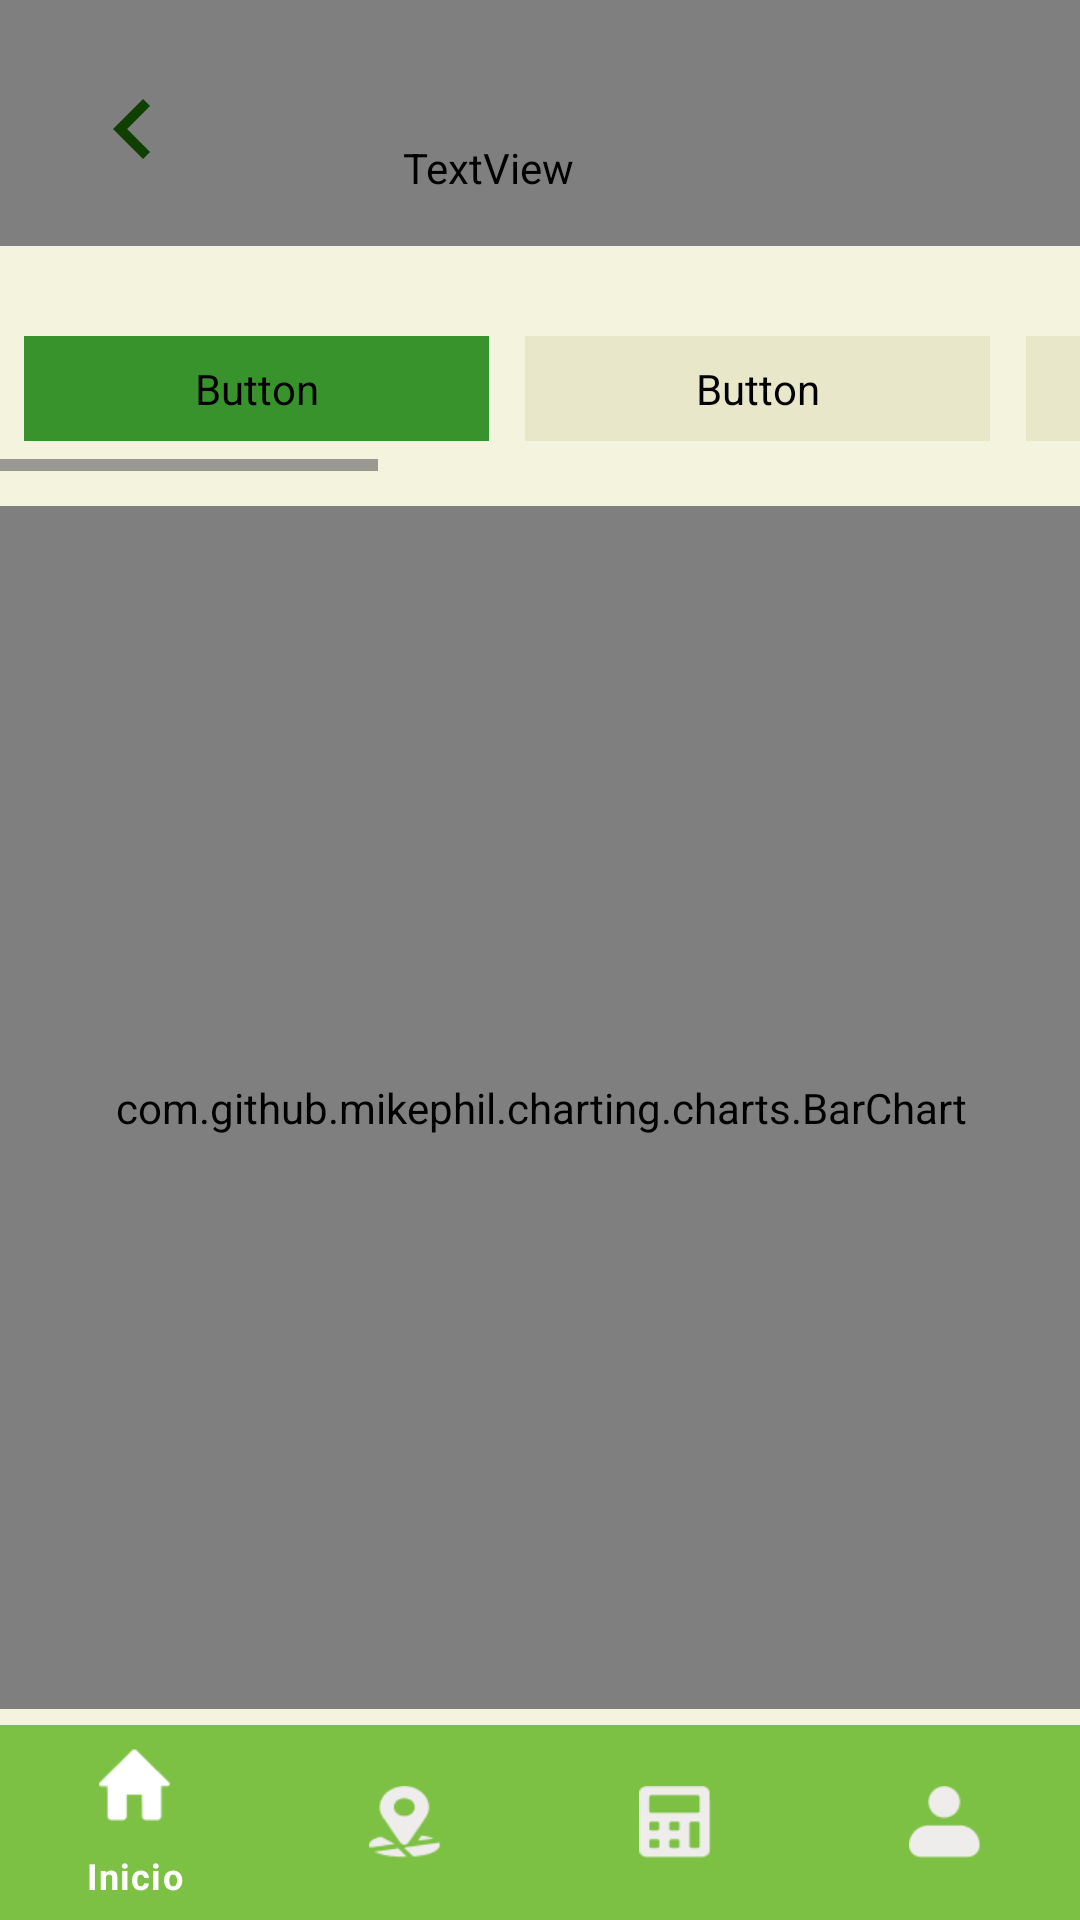

Point at icon controls on the screen. Image size 1080×1920, points as point (x, y).
keyboard arrow left: point (131, 129)
